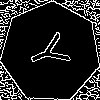Y: (25, 27, 80, 76)
